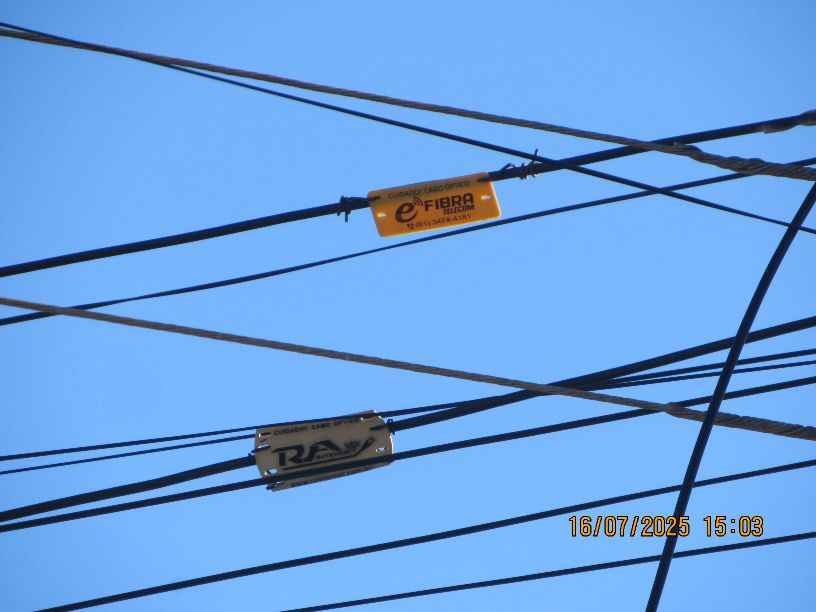fibra_optica: (217, 389, 529, 488), (157, 170, 536, 232)
